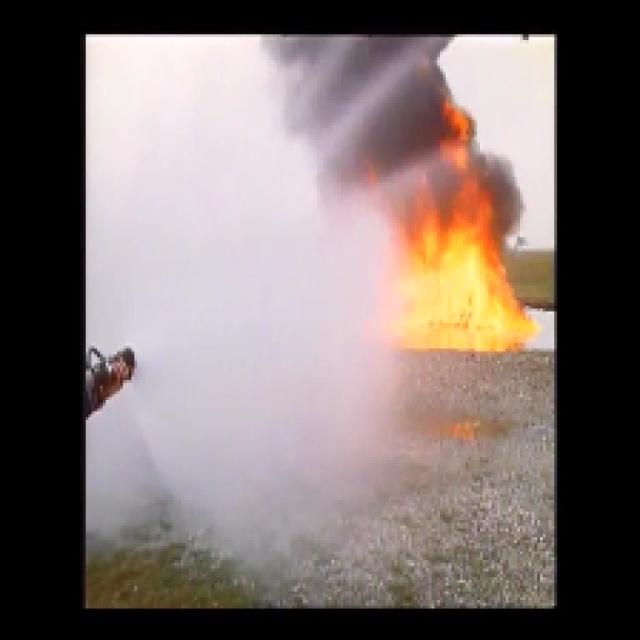fire: (415, 240, 526, 347)
